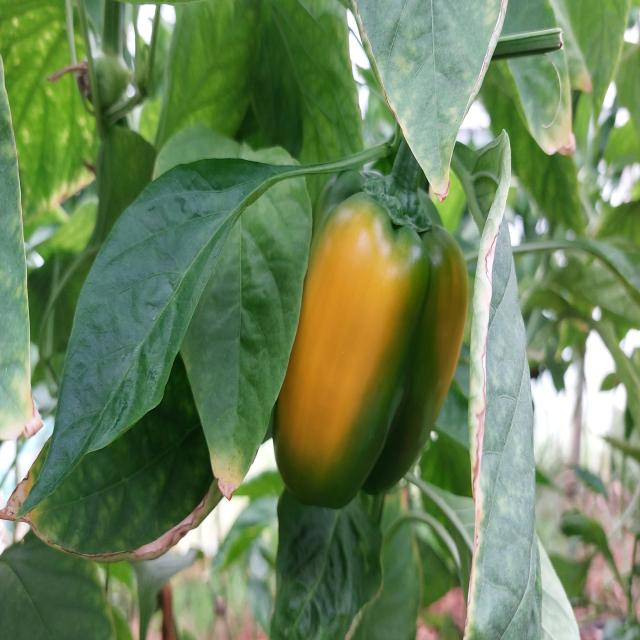GreenishYellow--Can-be-Harvested: (260, 142, 472, 524)
